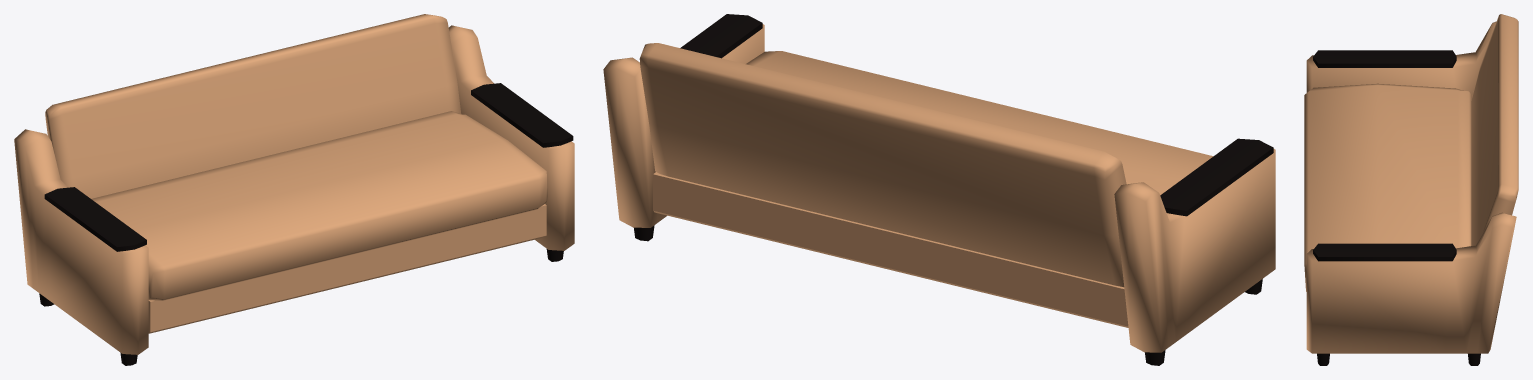
File: Divan_type2.FBX
3 renders of one model, left to right at view 1: azimuth 30°, elevation 25°; view 2: azimuth 150°, elevation 25°; view 3: azimuth 270°, elevation 25°, orthographic. The views are drawn at different scales.
Visible parts, largest first — view 1: Divan_type1_01; view 2: Divan_type1_01; view 3: Divan_type1_01.
Boxes of the visible parts, x1,y1,x2,y2 form: Divan_type1_01: (14, 14, 574, 365); Divan_type1_01: (603, 14, 1275, 365); Divan_type1_01: (1304, 14, 1518, 365).
Bounding box in the file's own units: 542 × 205 × 237.
